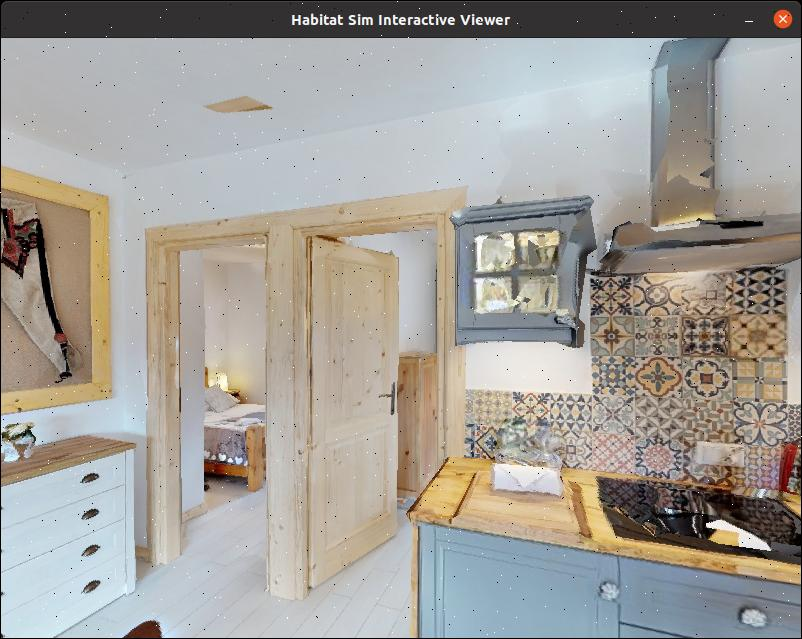door: (305, 225, 405, 574)
door-frame: (287, 184, 460, 583), (139, 219, 297, 589)
